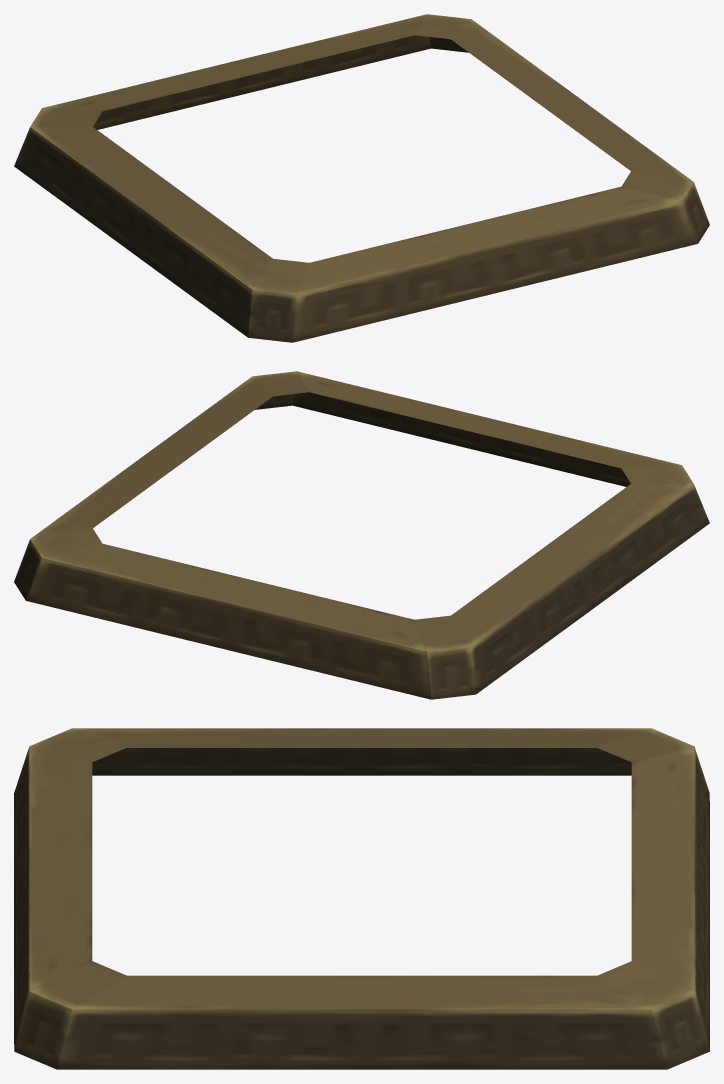
File: yw_shanlin_postbase_001.FBX
The picture shows the model from 3 angles, top to bottom: view 1: azimuth 30°, elevation 25°; view 2: azimuth 150°, elevation 25°; view 3: azimuth 270°, elevation 25°; orthographic projection. The views are drawn at different scales.
Visible parts, largest first — view 1: yw_shanlin_postbase_001; view 2: yw_shanlin_postbase_001; view 3: yw_shanlin_postbase_001.
Boxes of the visible parts, x1,y1,x2,y2 form: yw_shanlin_postbase_001: [14, 14, 709, 342]; yw_shanlin_postbase_001: [14, 371, 709, 699]; yw_shanlin_postbase_001: [14, 728, 709, 1069].
Size of the model in its own units: 69.52 by 69.55 by 6.71.
